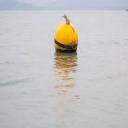yellow: (54, 22, 79, 52)
